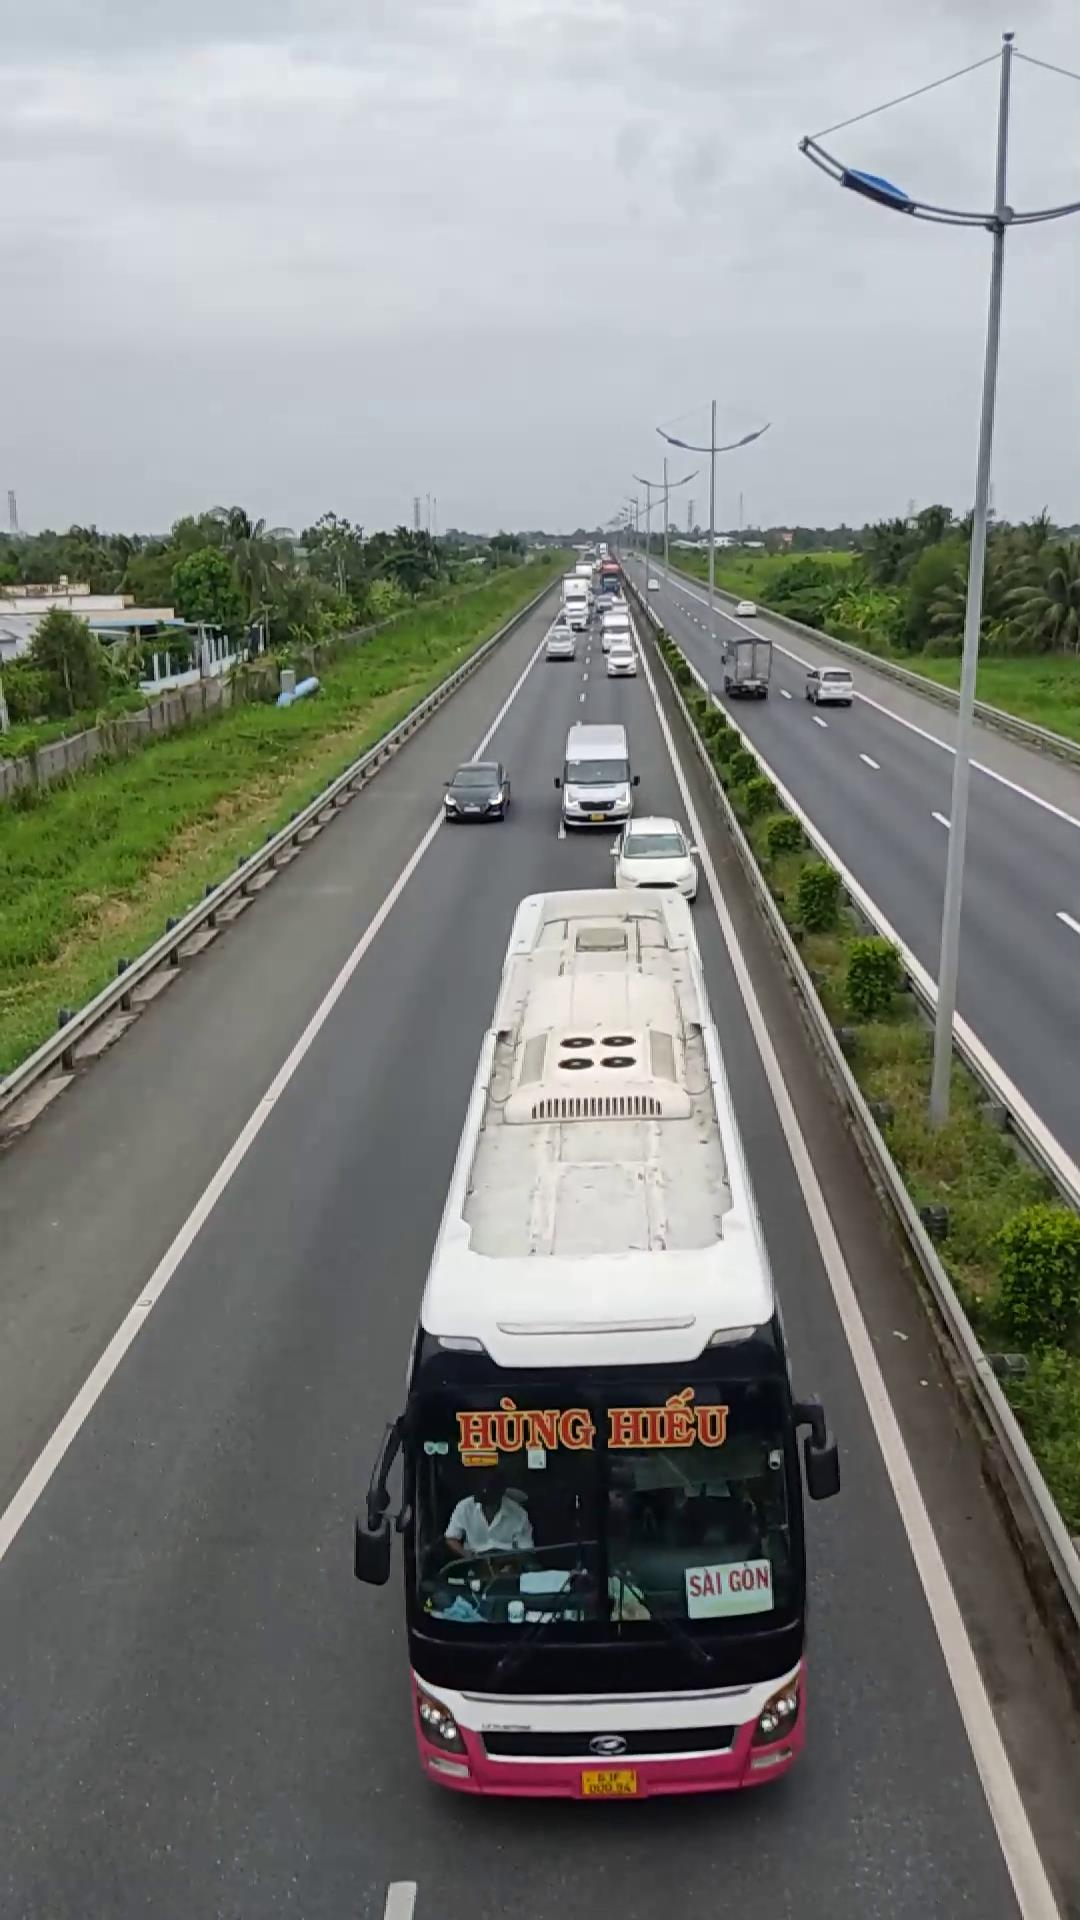bus: (357, 881, 834, 1811)
car: (554, 721, 638, 830), (441, 760, 512, 822)
